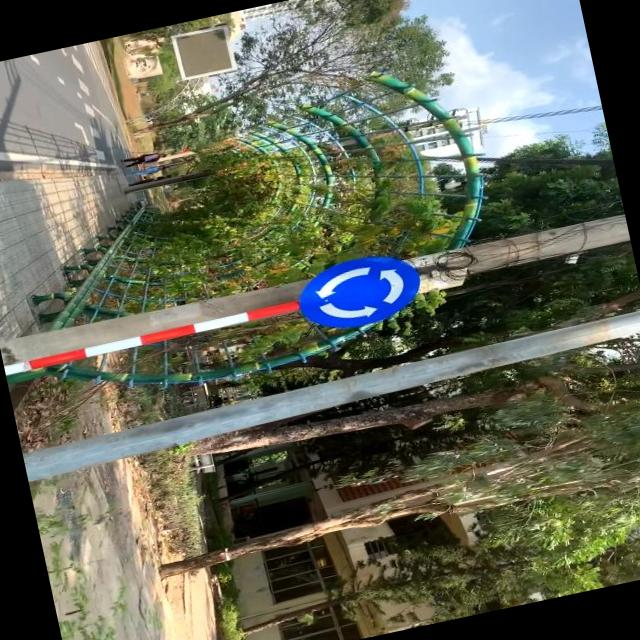R-303: (296, 246, 426, 334)
